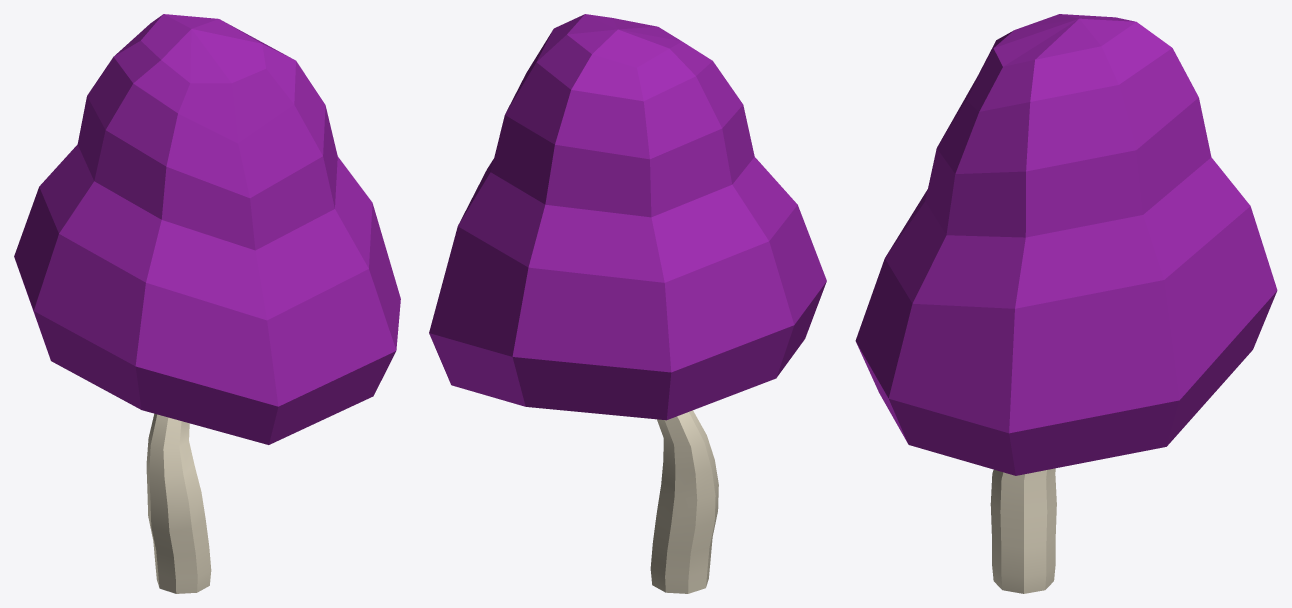
File: MagicMushroomPurple.fbx
3 views of the same model, side by side, from view 1: azimuth 30°, elevation 25°; view 2: azimuth 150°, elevation 25°; view 3: azimuth 270°, elevation 25° (orthographic). The views are drawn at different scales.
Visible parts, largest first — view 1: pSphere2, pCylinder1; view 2: pSphere2, pCylinder1; view 3: pSphere2, pCylinder1.
Boxes of the visible parts, left/top/right/bottom form: pSphere2: left=14, top=14, right=400, bottom=444; pCylinder1: left=146, top=413, right=211, bottom=593; pSphere2: left=429, top=14, right=826, bottom=420; pCylinder1: left=650, top=410, right=718, bottom=593; pSphere2: left=855, top=14, right=1277, bottom=475; pCylinder1: left=990, top=468, right=1056, bottom=593.
Bounding box in the file's own units: 17.27 × 25.68 × 16.92.
